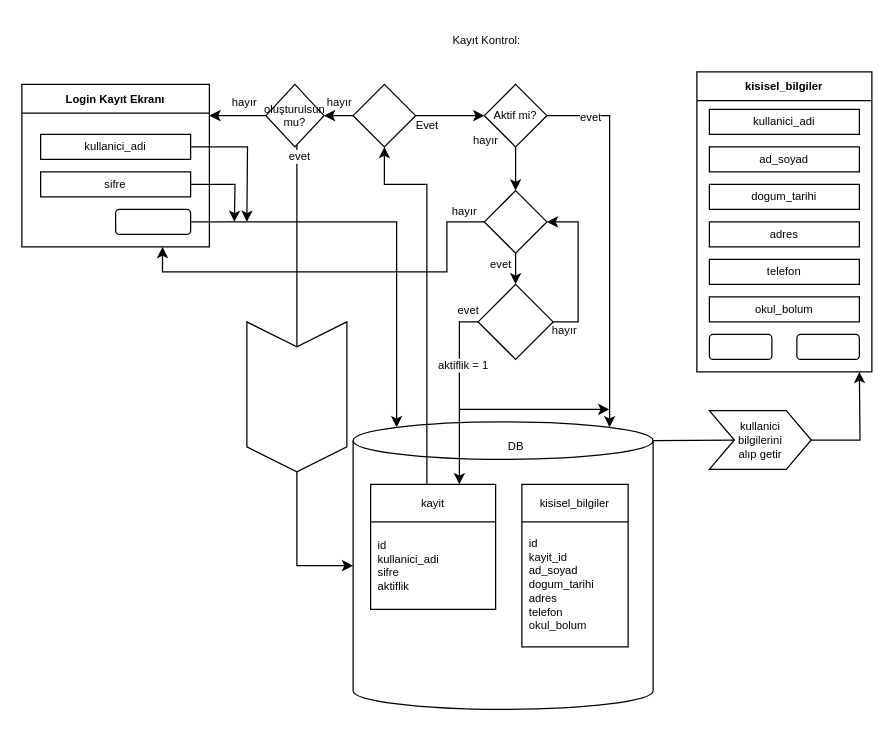
The diagram is 894 pixels wide and 731 high, and some of its shapes have lost their labels. Here are the shapes that lost their labels. From the top down, the centre of each, then its label:
At (384,115): "k.a var mı?".
At (152,221): "Giriş".
At (515,221): "Aktifleşsin mi?".
At (515,321): "Şifre Doğru mu?".
At (740,346): "Sil".
At (827,346): "Güncelle".
At (296,396): "kisisel_bilgiler aktiflik=1 olan kayit_id harici boş olan bir satır oluştur".
